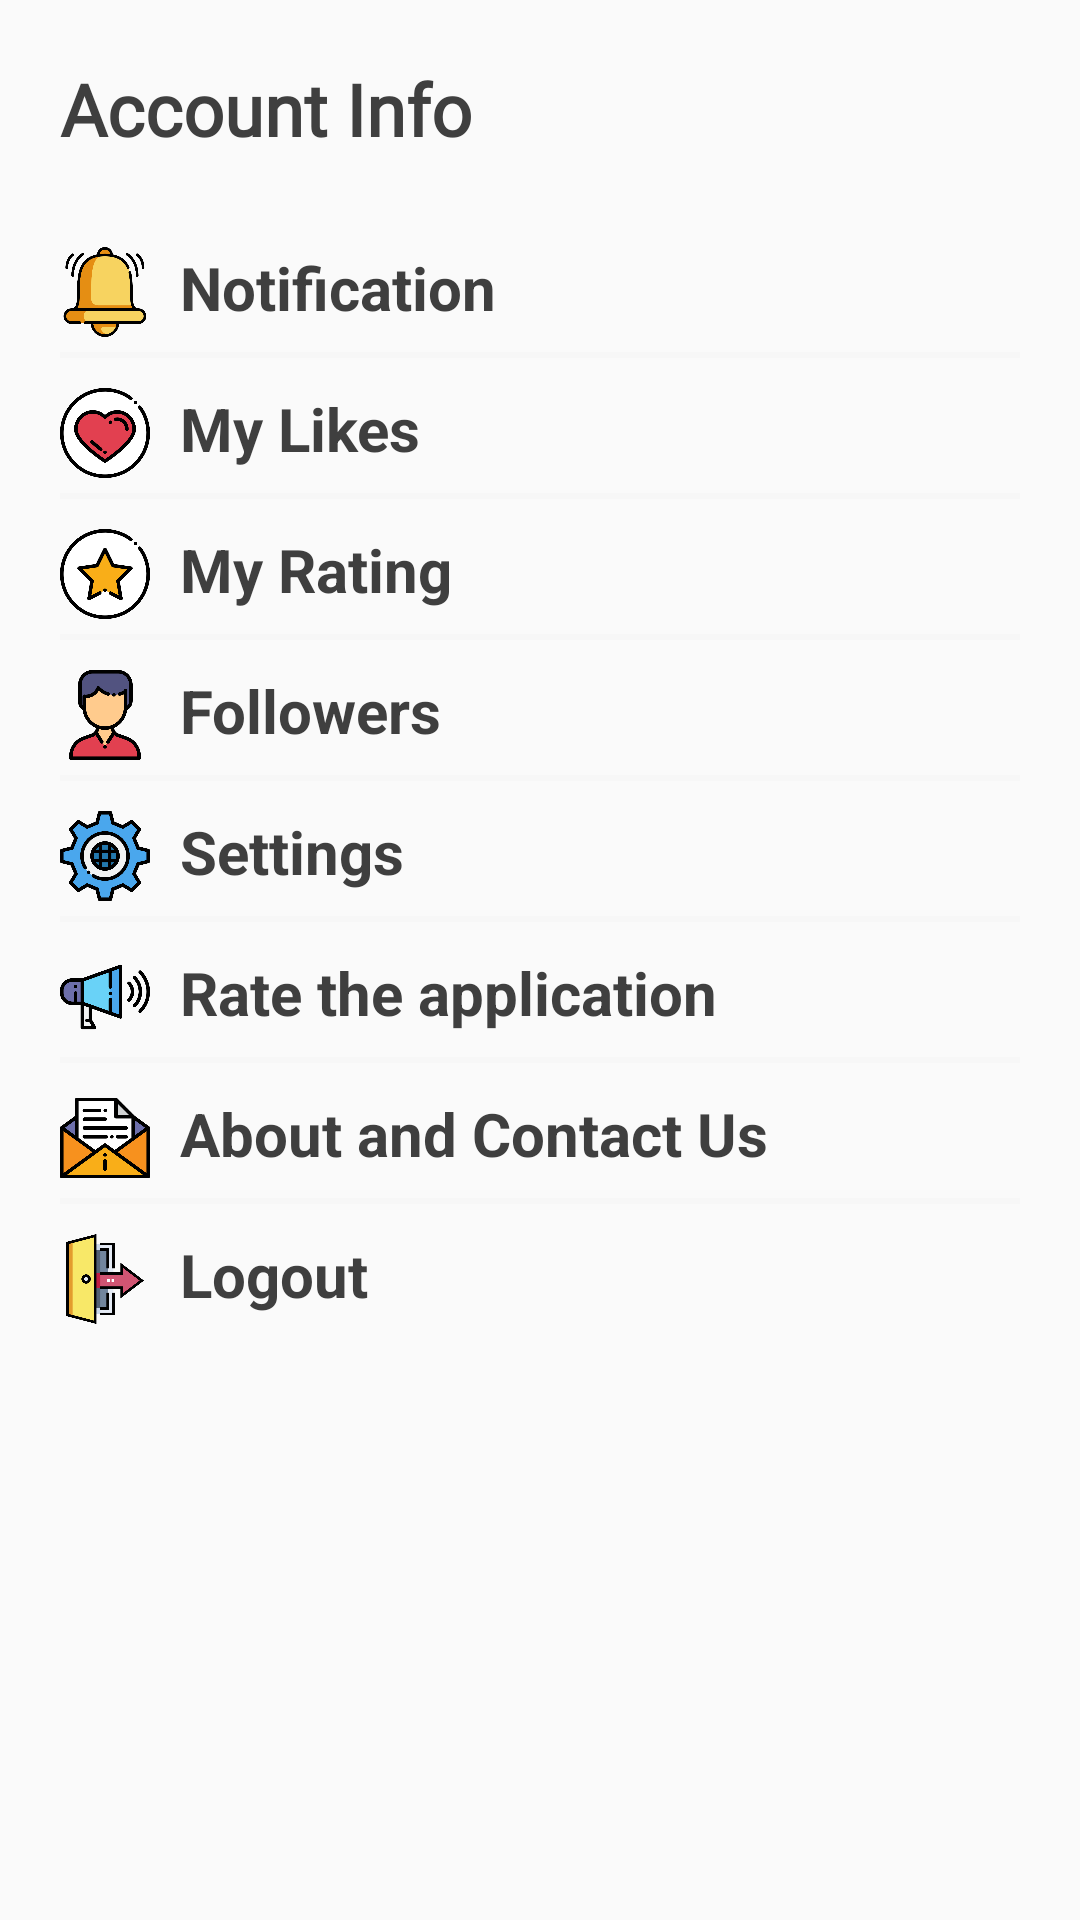

Point at icon controls on the screen. Image size 1080*1920, points as (x,y).
bell: (104,292)
email: (105,1138)
heart: (105,433)
speak: (105,997)
star: (105,574)
